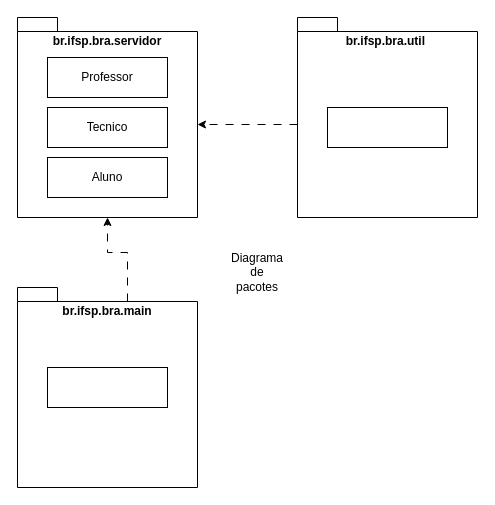
Some shapes in this 495 by 505 pixel diagram are drawn without their labels. Each missing label, with the centre of its shape:
ImpressoraDadosServidor: the point at 387,127
Main: the point at 107,387
